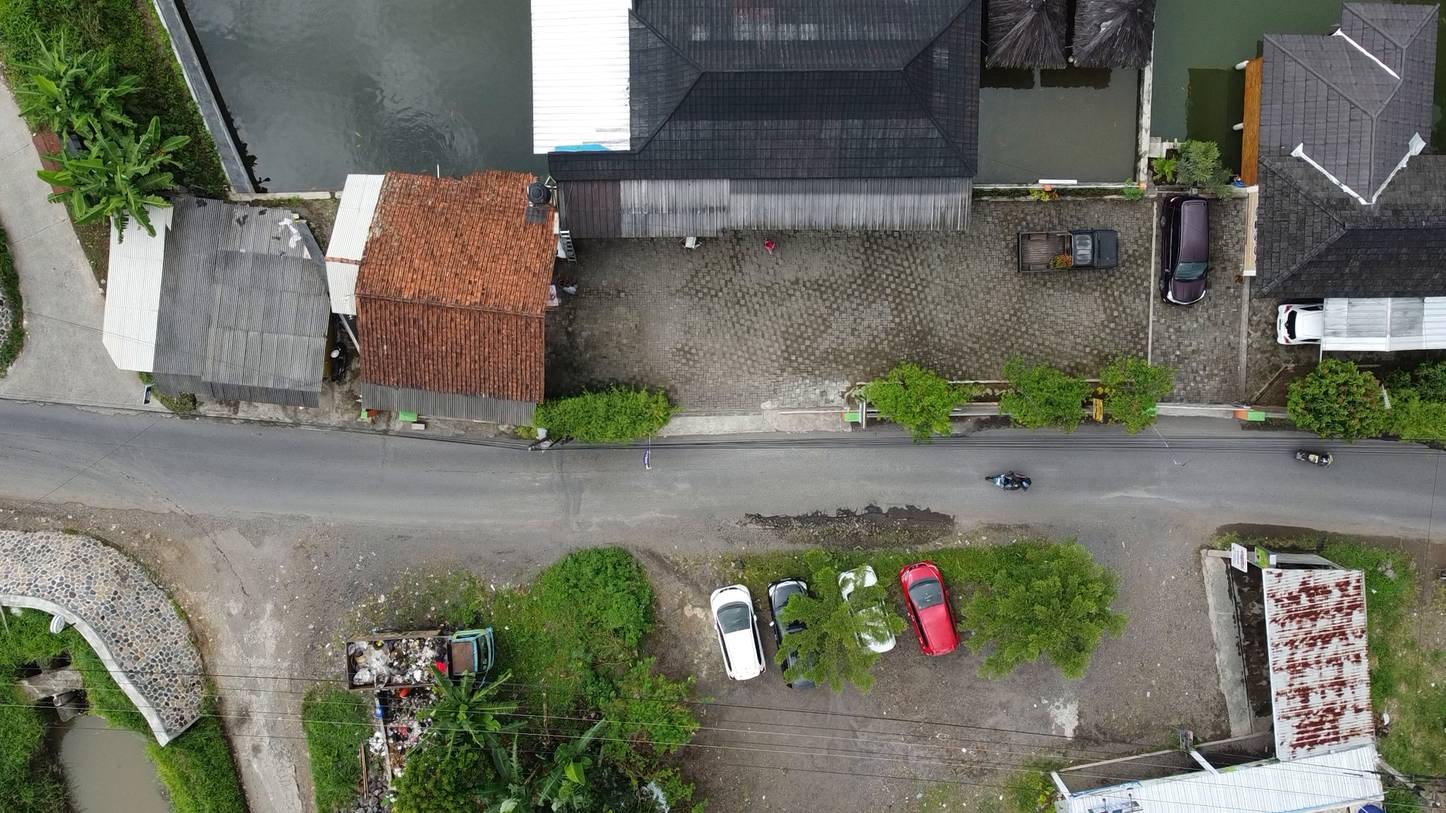mobil: (1012, 213, 1139, 282), (763, 571, 825, 693), (1155, 193, 1217, 315), (709, 571, 770, 693), (898, 558, 967, 658), (836, 553, 895, 663), (1269, 294, 1330, 360)
